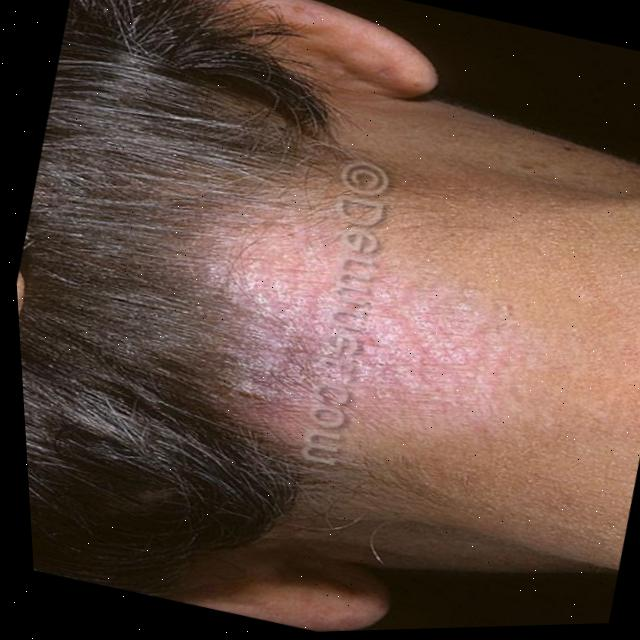Eczema: (201, 193, 516, 446)
